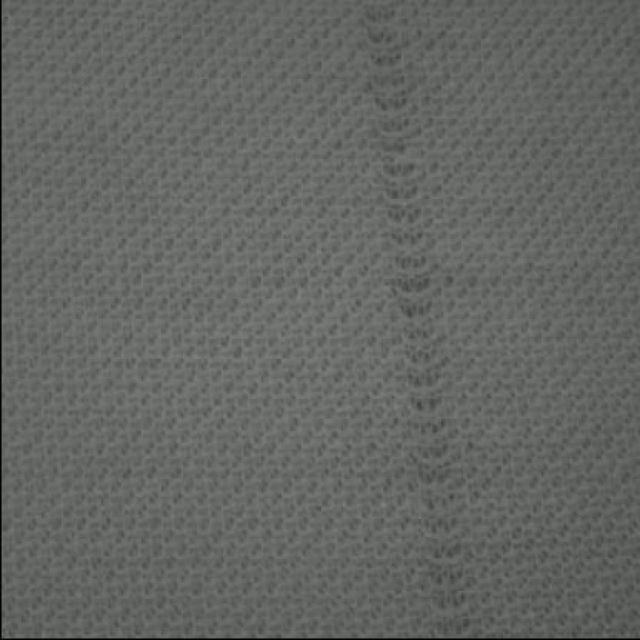Line: (359, 0, 475, 633)
